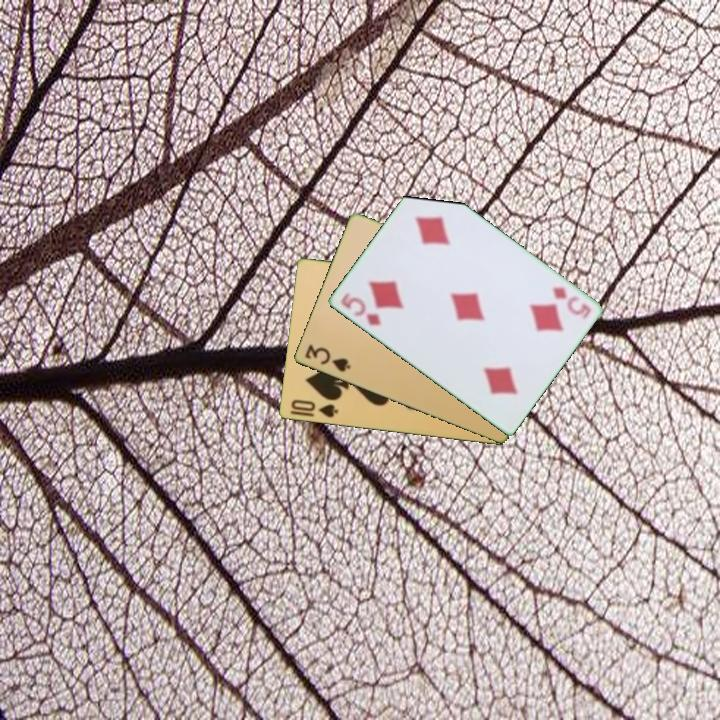10s: (287, 396, 341, 421)
3s: (301, 341, 353, 375)
5d: (337, 288, 384, 329), (548, 283, 594, 322)
